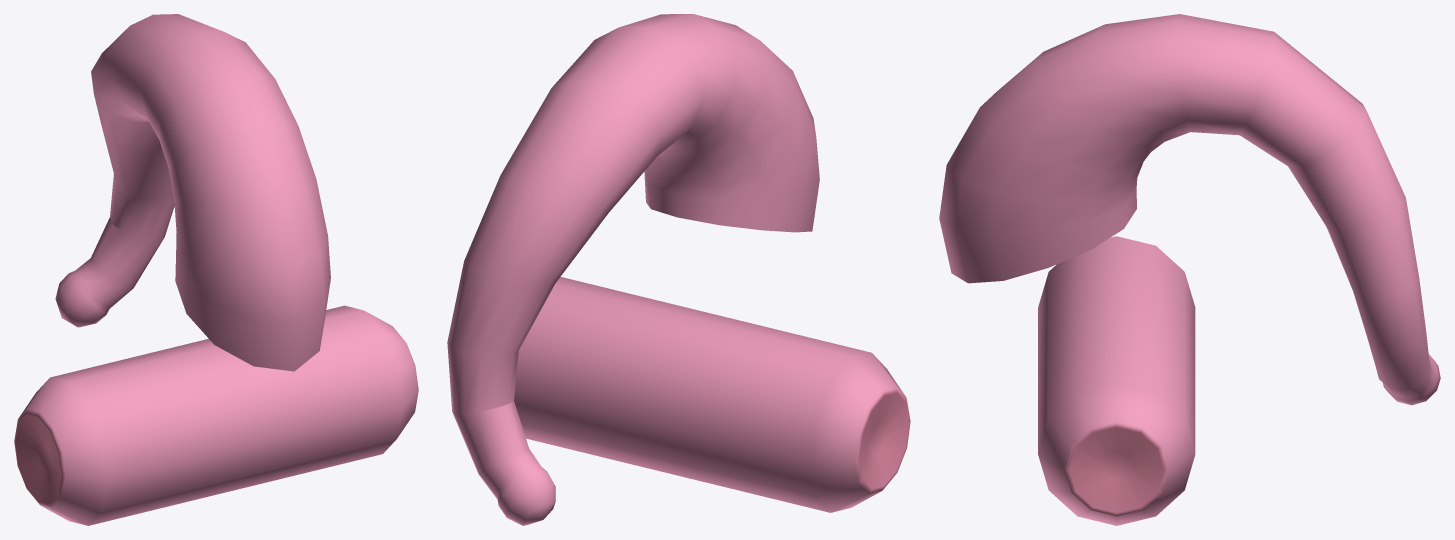
File: mabu_ear.fbx
3 renders of one model, left to right at view 1: azimuth 30°, elevation 25°; view 2: azimuth 150°, elevation 25°; view 3: azimuth 270°, elevation 25°, orthographic. The views are drawn at different scales.
Visible parts, largest first — view 1: mabu_ear; view 2: mabu_ear; view 3: mabu_ear.
Part boxes in pixels (x1=…): mabu_ear: x1=14, y1=14, x2=418, y2=525; mabu_ear: x1=447, y1=14, x2=910, y2=525; mabu_ear: x1=939, y1=14, x2=1440, y2=525.
Size of the model in its own units: 126 by 144 by 150.
